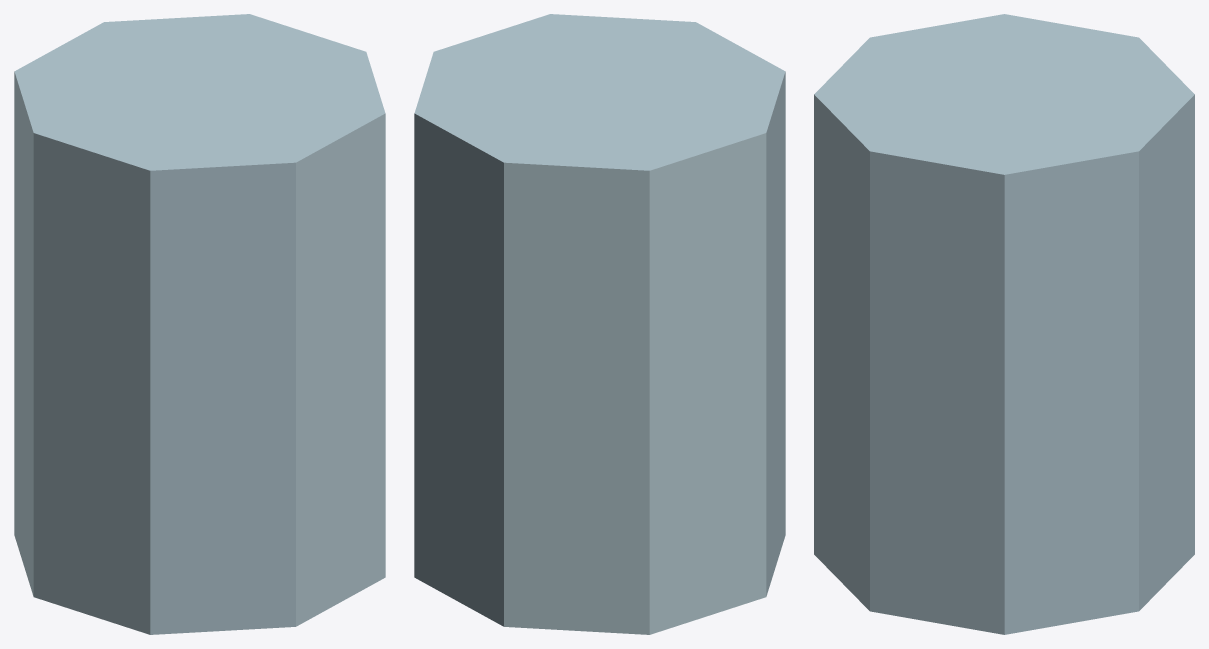
File: col_mushroom.glb
The picture shows the model from 3 angles, left to right: view 1: azimuth 30°, elevation 25°; view 2: azimuth 150°, elevation 25°; view 3: azimuth 270°, elevation 25°; orthographic projection.
Parts seen in each view (by area): view 1: col_mushroom2; view 2: col_mushroom2; view 3: col_mushroom2.
Part boxes in pixels (x1,y1,x2,y2): col_mushroom2: (14, 14, 385, 634); col_mushroom2: (414, 14, 785, 634); col_mushroom2: (814, 14, 1194, 634).
Bounding box in the file's own units: 0.3 × 0.4 × 0.3.
